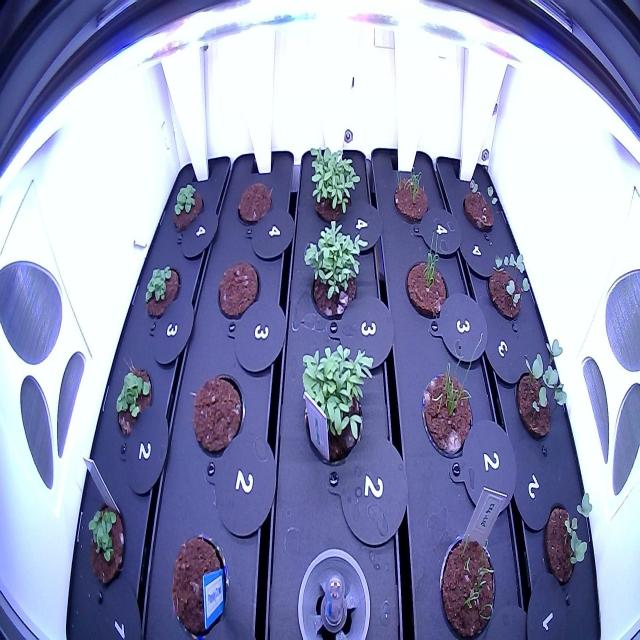germination: (294, 338, 377, 474), (418, 323, 492, 471), (297, 211, 372, 325), (434, 513, 500, 636), (512, 328, 574, 449), (537, 486, 598, 592), (302, 134, 364, 233), (402, 230, 452, 328), (81, 493, 130, 592), (480, 245, 535, 327), (110, 356, 158, 441), (383, 156, 434, 232), (459, 170, 504, 240), (140, 257, 182, 326), (168, 177, 209, 236)
pod: (164, 528, 232, 634), (188, 366, 248, 464), (212, 252, 263, 328), (232, 176, 275, 234)
